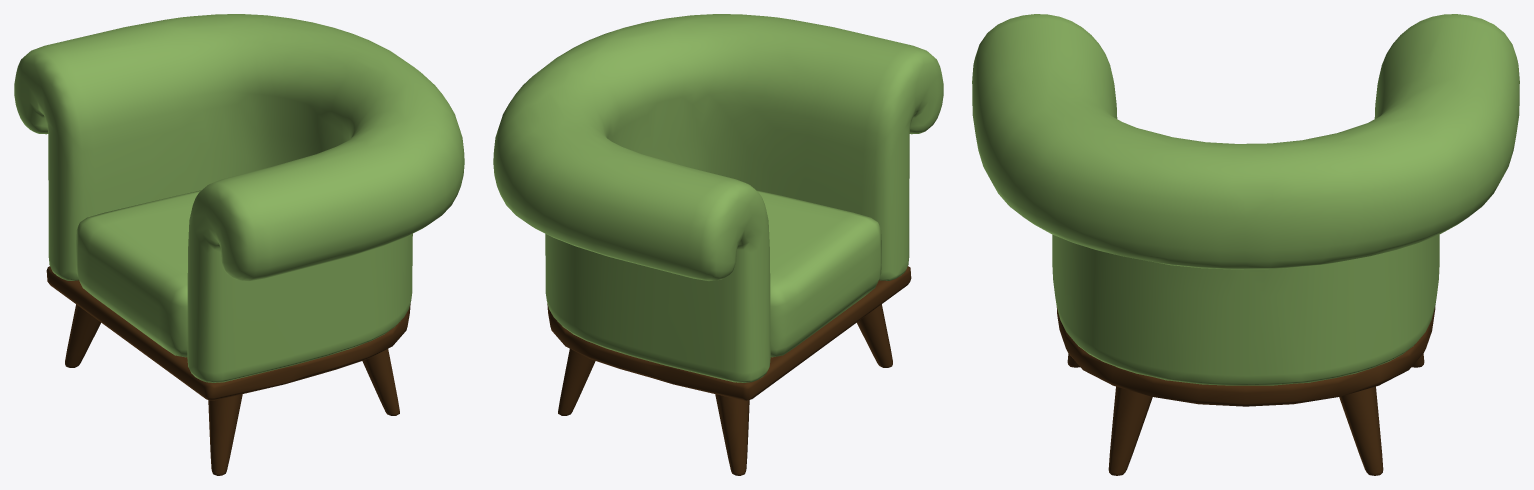
File: armchair_09_green.fbx
The picture shows the model from 3 angles, left to right: view 1: azimuth 30°, elevation 25°; view 2: azimuth 150°, elevation 25°; view 3: azimuth 270°, elevation 25°; orthographic projection. The views are drawn at different scales.
Visible parts, largest first — view 1: armchair_09_green; view 2: armchair_09_green; view 3: armchair_09_green.
Part boxes in pixels (x1=…): armchair_09_green: x1=14, y1=14, x2=464, y2=475; armchair_09_green: x1=493, y1=14, x2=943, y2=475; armchair_09_green: x1=972, y1=14, x2=1519, y2=475.
Bounding box in the file's own units: 106 × 102 × 145.
2 materials, 2 textured.
